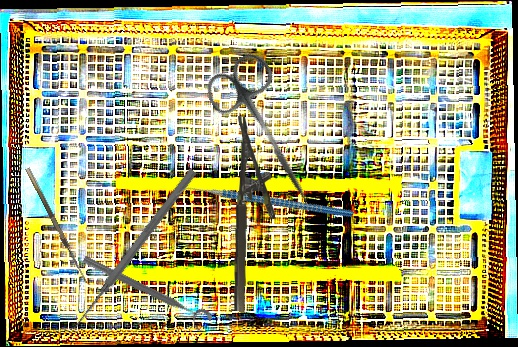Chopper: (174, 134, 355, 275)
Fixation Ring: (77, 252, 214, 335)
Hook Surgical: (25, 164, 94, 285)
Iris Scissors: (199, 47, 339, 219)
Needle Holder: (231, 116, 279, 313)
Pusher: (70, 166, 199, 331)
